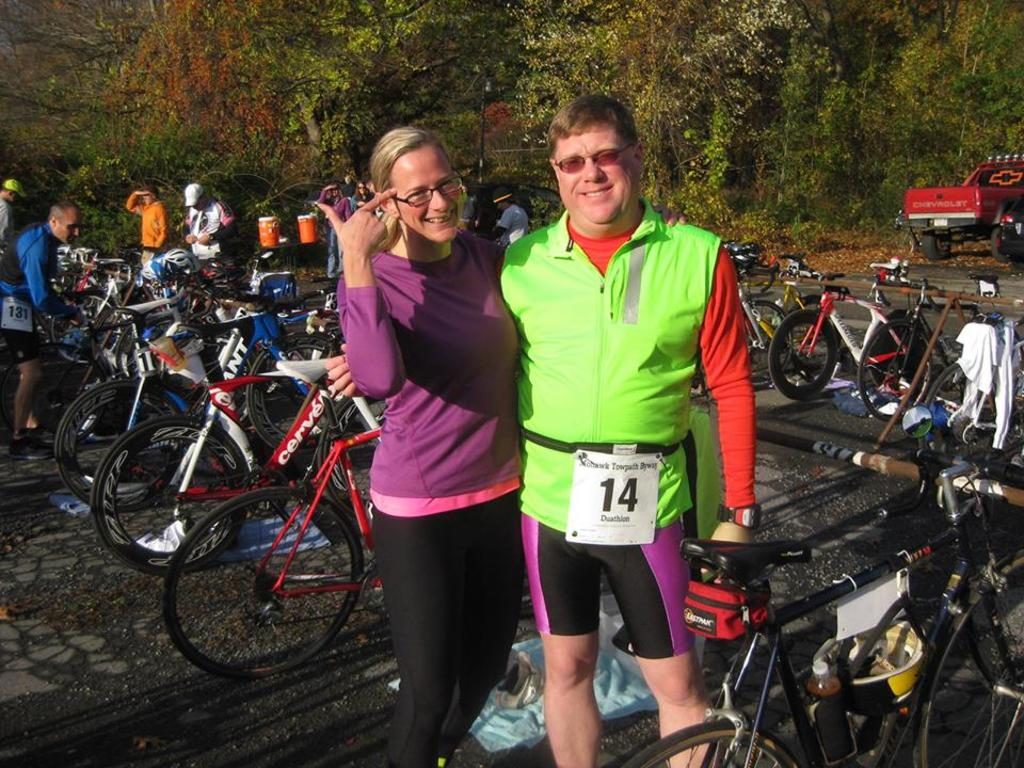Bike: (754, 297, 891, 419)
